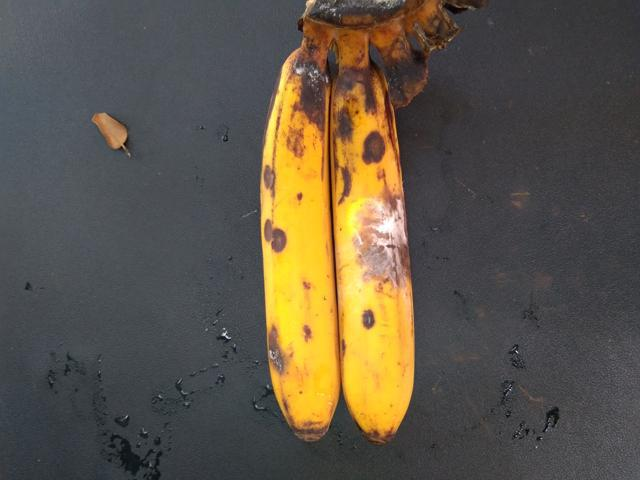ripe: (244, 57, 345, 446)
rotten: (311, 54, 446, 455)
